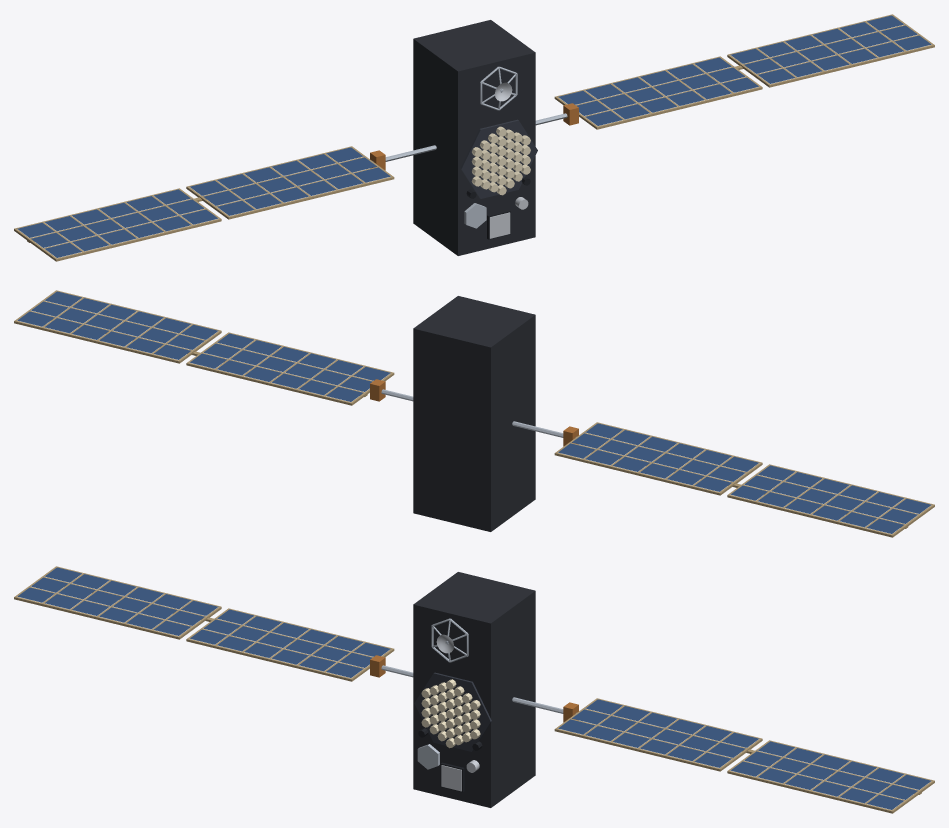
File: galileo-iov.glb
The picture shows the model from 3 angles, top to bottom: view 1: azimuth 30°, elevation 25°; view 2: azimuth 150°, elevation 25°; view 3: azimuth 330°, elevation 25°; orthographic projection.
Parts seen in each view (by area): view 1: solar-panel, foil, body; view 2: foil, solar-panel, body; view 3: solar-panel, foil, body.
Part boxes in pixels (x1,y1,x2,y2): solar-panel: (17,15,931,257); foil: (413,20,535,255); body: (14,14,934,261); foil: (413,296,535,531); solar-panel: (17,291,931,533); body: (14,290,934,537); solar-panel: (17,567,931,809); foil: (413,572,535,807); body: (14,566,934,813).
Size of the model in its own units: 13 by 2.64 by 1.32.
